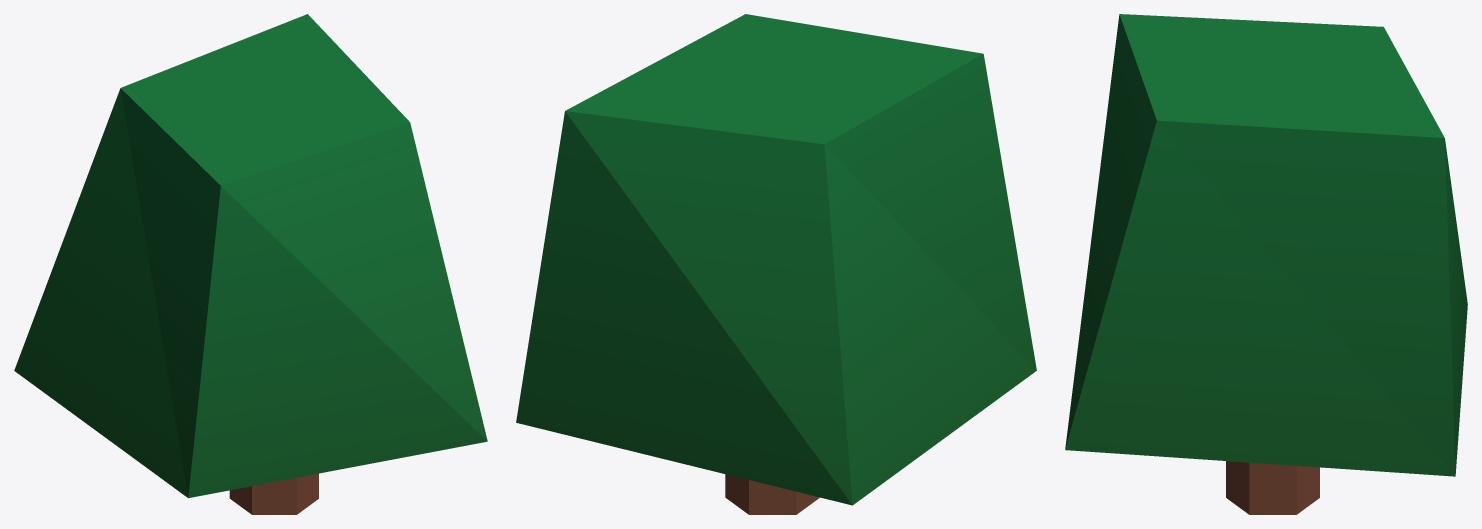
File: Bush_11_gradient_green_vc.fbx
3 views of the same model, side by side, from view 1: azimuth 30°, elevation 25°; view 2: azimuth 150°, elevation 25°; view 3: azimuth 270°, elevation 25° (orthographic). The views are drawn at different scales.
Parts seen in each view (by area): view 1: Bush_11_gradient_green_vc; view 2: Bush_11_gradient_green_vc; view 3: Bush_11_gradient_green_vc.
Part boxes in pixels (<box>): Bush_11_gradient_green_vc: <box>14,14,487,514</box>; Bush_11_gradient_green_vc: <box>516,14,1036,514</box>; Bush_11_gradient_green_vc: <box>1065,14,1467,514</box>.
Bounding box in the file's own units: 50.88 × 59.59 × 51.95.
